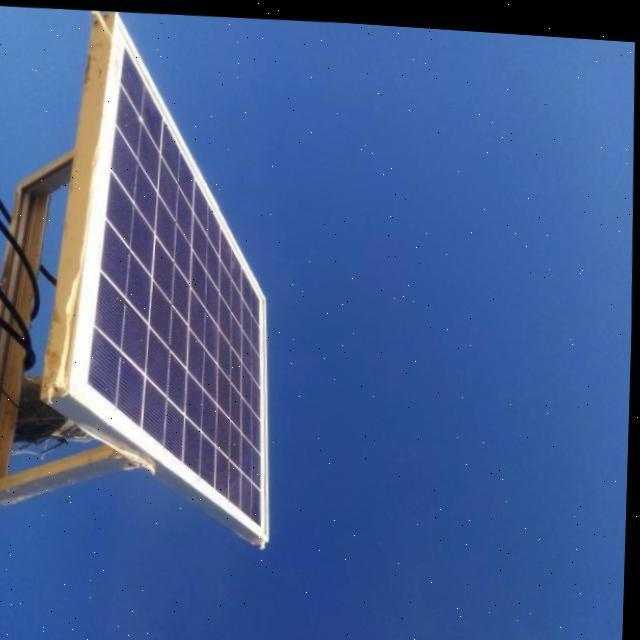Normal Solar Panel: (56, 5, 279, 543)
